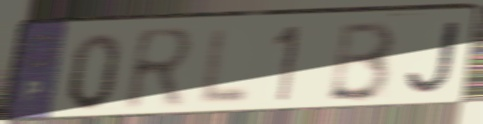0: (66, 30, 125, 114)
1: (270, 23, 303, 106)
B: (323, 18, 399, 104)
J: (403, 18, 462, 98)
L: (194, 25, 253, 108)
R: (121, 24, 200, 116)
